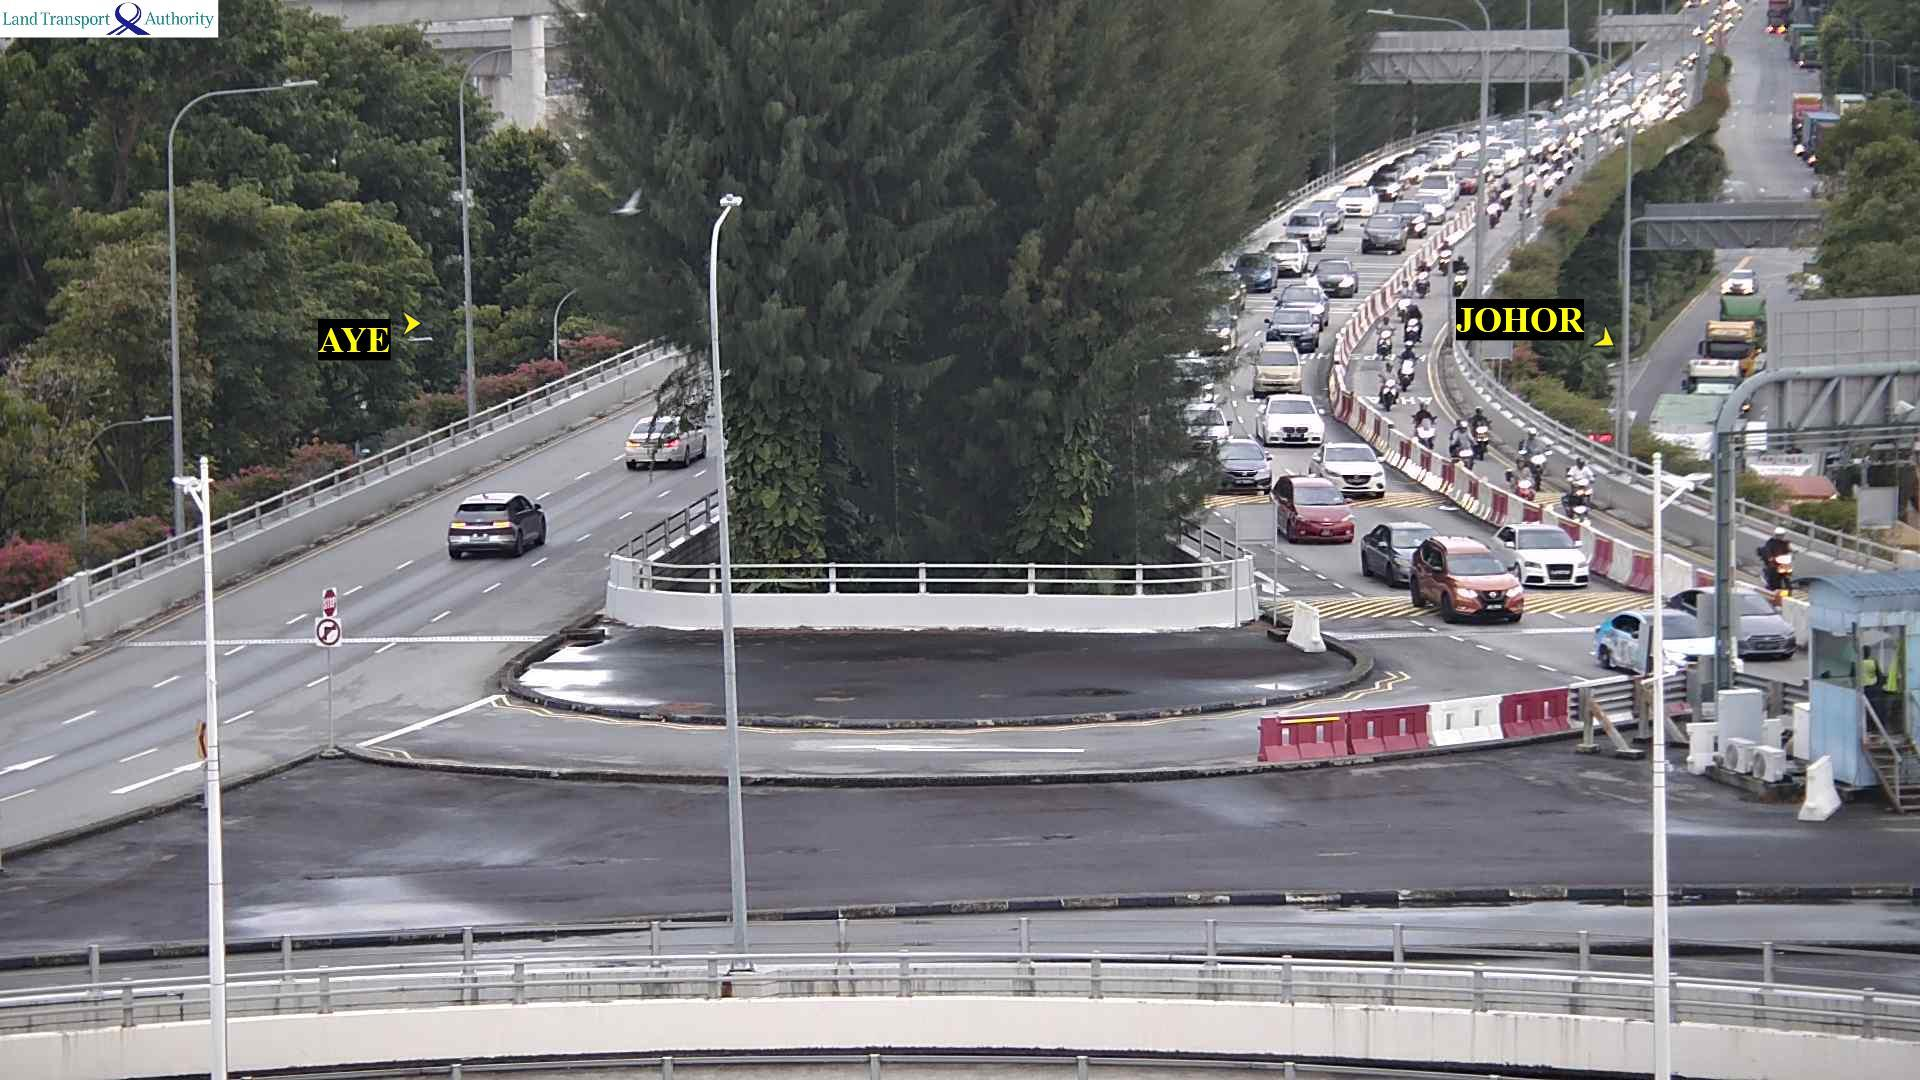vehicle-secondlink-johor: (1414, 539, 1522, 621), (1669, 589, 1797, 658), (1596, 605, 1716, 676), (1489, 524, 1589, 587), (1271, 473, 1350, 542), (1361, 518, 1441, 584), (1312, 443, 1389, 497), (1209, 443, 1271, 493), (1259, 400, 1324, 446), (1179, 405, 1232, 451), (1254, 343, 1299, 397), (1305, 258, 1358, 295), (1278, 284, 1329, 320), (1763, 524, 1793, 584), (1267, 311, 1316, 348), (1364, 214, 1407, 255), (1233, 252, 1276, 290), (1286, 210, 1325, 245), (1523, 430, 1551, 477), (1265, 239, 1303, 273), (1337, 186, 1379, 215), (1553, 491, 1589, 525), (1568, 458, 1597, 497), (1414, 404, 1436, 446), (1451, 418, 1470, 465), (1402, 340, 1416, 390), (1511, 458, 1530, 496), (1404, 303, 1423, 342), (1472, 405, 1487, 448), (1486, 190, 1505, 227), (1453, 255, 1469, 293), (1379, 360, 1391, 409), (1416, 258, 1431, 297), (1377, 315, 1390, 355), (1396, 277, 1410, 314), (1440, 239, 1452, 273)
vehicle-secondlink-singapore: (447, 492, 547, 566), (618, 417, 708, 473)
